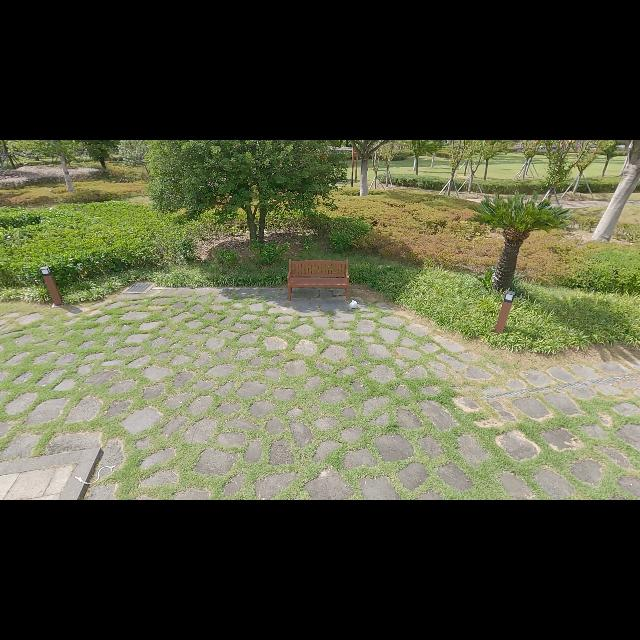trash: (348, 298, 362, 310)
